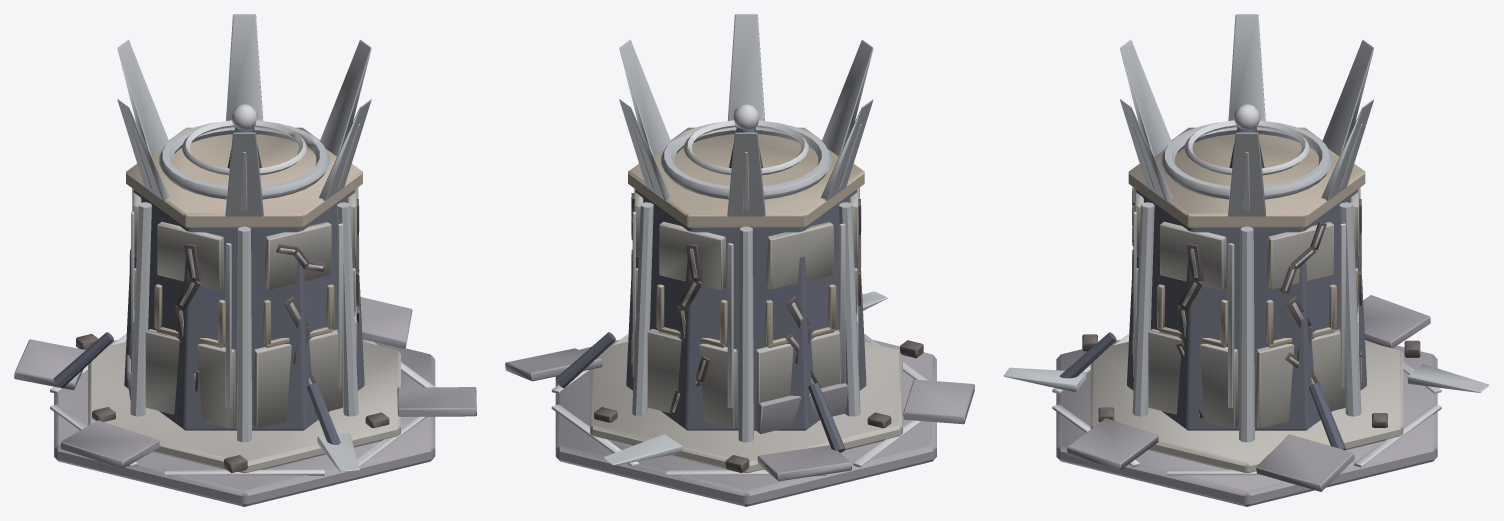
Rendered from ward_generator.glb.
3 views of the same model, side by side, from view 1: azimuth 30°, elevation 25°; view 2: azimuth 150°, elevation 25°; view 3: azimuth 270°, elevation 25° (orthographic).
Visible parts, largest first — view 1: main, wreck, crack_3, crack_1; view 2: main, wreck, crack_3, crack_2; view 3: main, wreck, crack_3, crack_2.
Part boxes in pixels (<box>): main: <box>50,14,435,506</box>; wreck: <box>14,297,476,473</box>; crack_3: <box>129,187,359,408</box>; crack_1: <box>176,244,325,420</box>; main: <box>551,14,936,506</box>; wreck: <box>505,291,974,481</box>; crack_3: <box>631,187,861,408</box>; crack_2: <box>631,193,847,433</box>; main: <box>1052,14,1441,506</box>; wreck: <box>1003,295,1489,491</box>; crack_3: <box>1132,187,1361,408</box>; crack_2: <box>1176,222,1361,418</box>.
Bounding box in the file's own units: 4.15 × 3.35 × 4.31.
